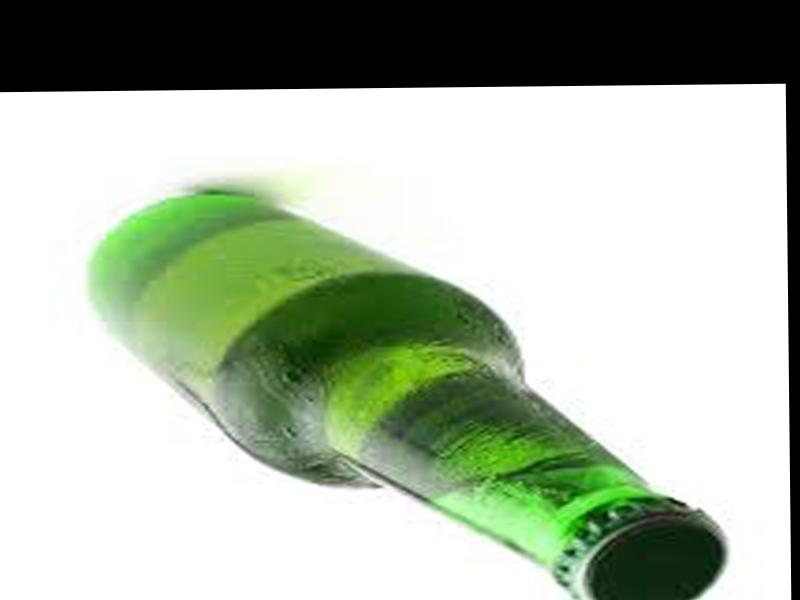Beer: (84, 183, 728, 600)
